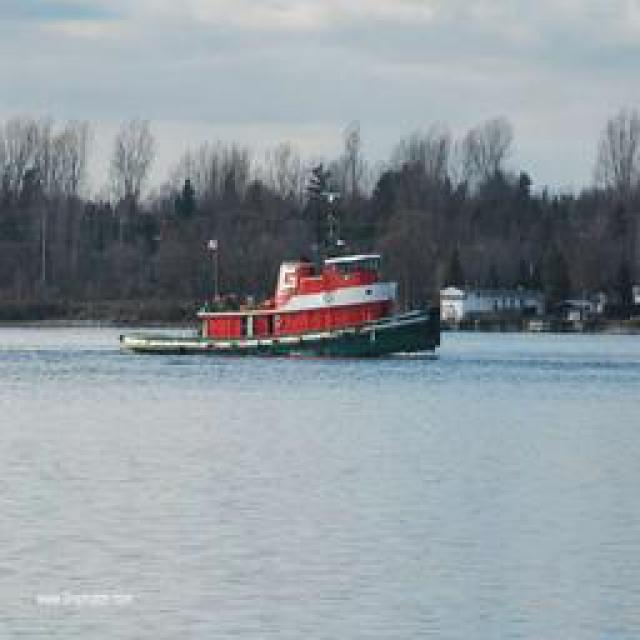Ship: (127, 235, 437, 360)
